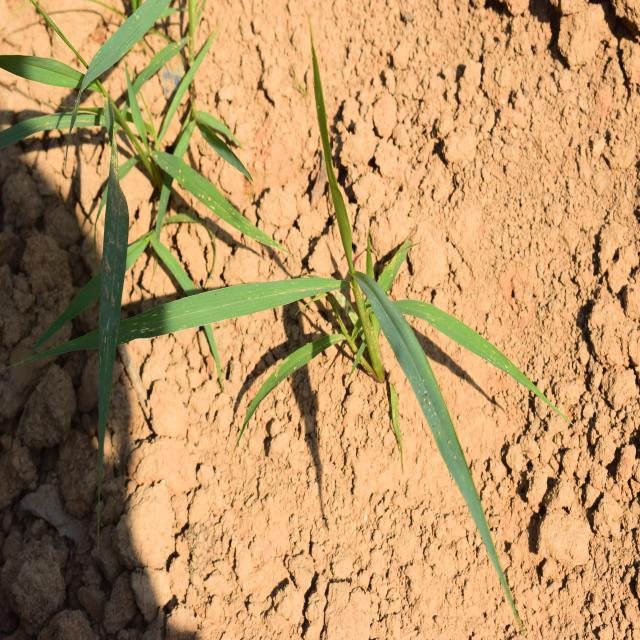green_foxtail: (154, 151, 492, 527), (20, 24, 226, 328)
